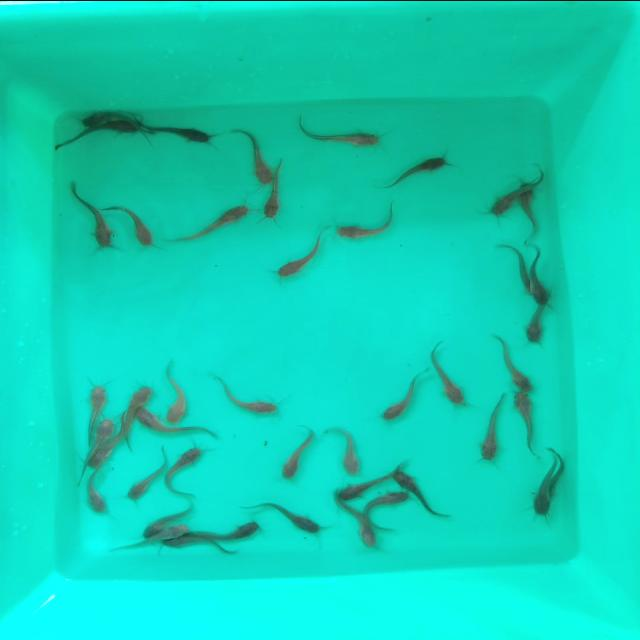lele: (172, 203, 252, 241), (258, 498, 324, 544), (51, 122, 136, 156), (394, 468, 444, 518), (382, 154, 448, 190), (381, 368, 425, 422), (471, 392, 503, 466), (492, 344, 540, 392), (162, 536, 238, 566), (431, 338, 464, 406), (218, 381, 284, 415), (136, 412, 216, 440), (364, 489, 416, 532), (296, 122, 381, 148), (326, 500, 368, 552), (279, 424, 317, 478), (162, 362, 196, 422), (91, 528, 169, 554), (78, 195, 112, 252), (510, 392, 538, 461), (496, 244, 530, 300), (117, 201, 155, 251), (168, 446, 204, 498), (336, 205, 394, 237), (517, 180, 549, 238), (147, 122, 215, 149), (126, 456, 164, 504), (274, 243, 324, 277), (327, 472, 391, 498), (532, 244, 558, 307), (142, 500, 200, 528), (485, 168, 516, 220), (530, 456, 555, 518), (242, 130, 270, 184), (524, 307, 556, 349), (551, 435, 571, 502), (85, 470, 114, 516), (201, 520, 261, 541), (78, 383, 108, 424), (263, 182, 291, 225), (78, 440, 120, 468), (334, 424, 358, 472), (122, 376, 154, 410), (79, 108, 141, 122), (92, 410, 114, 449)
